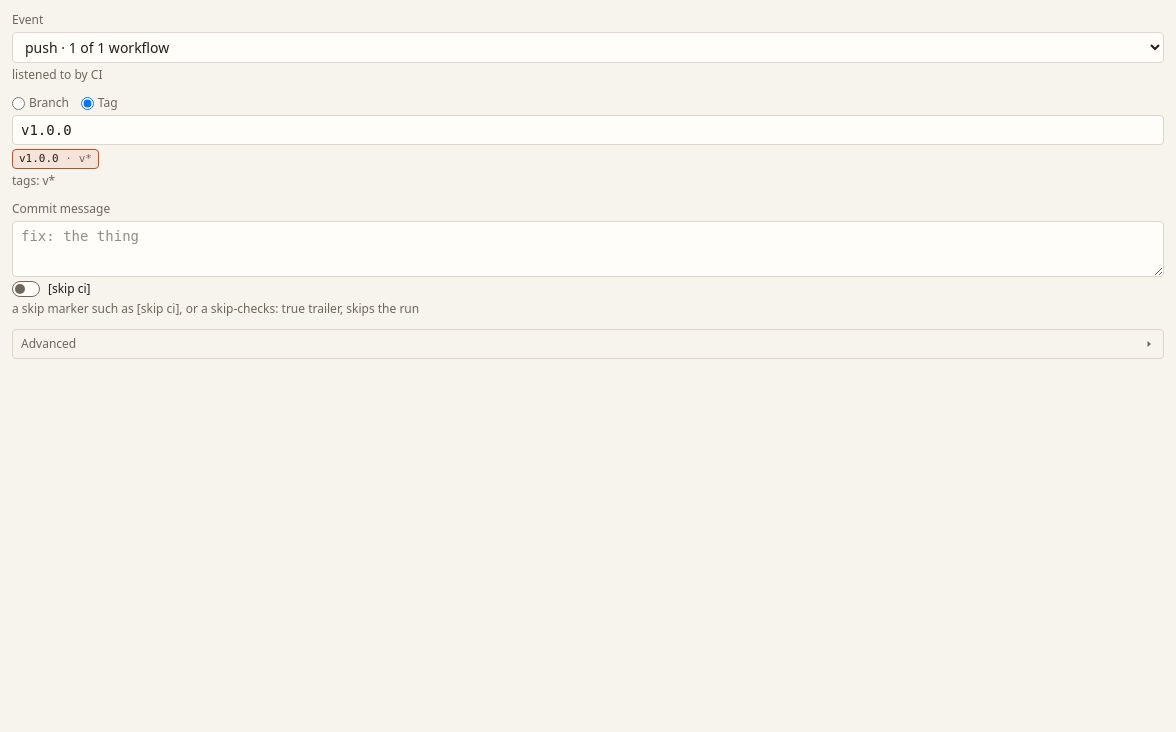
Test: the scenario form › keeps the Tag field a Tag field when it is emptied
The width and height of the screenshot is (1176, 732).
Clear the field named "Tag" at (588, 130), box [12, 115, 1164, 145]
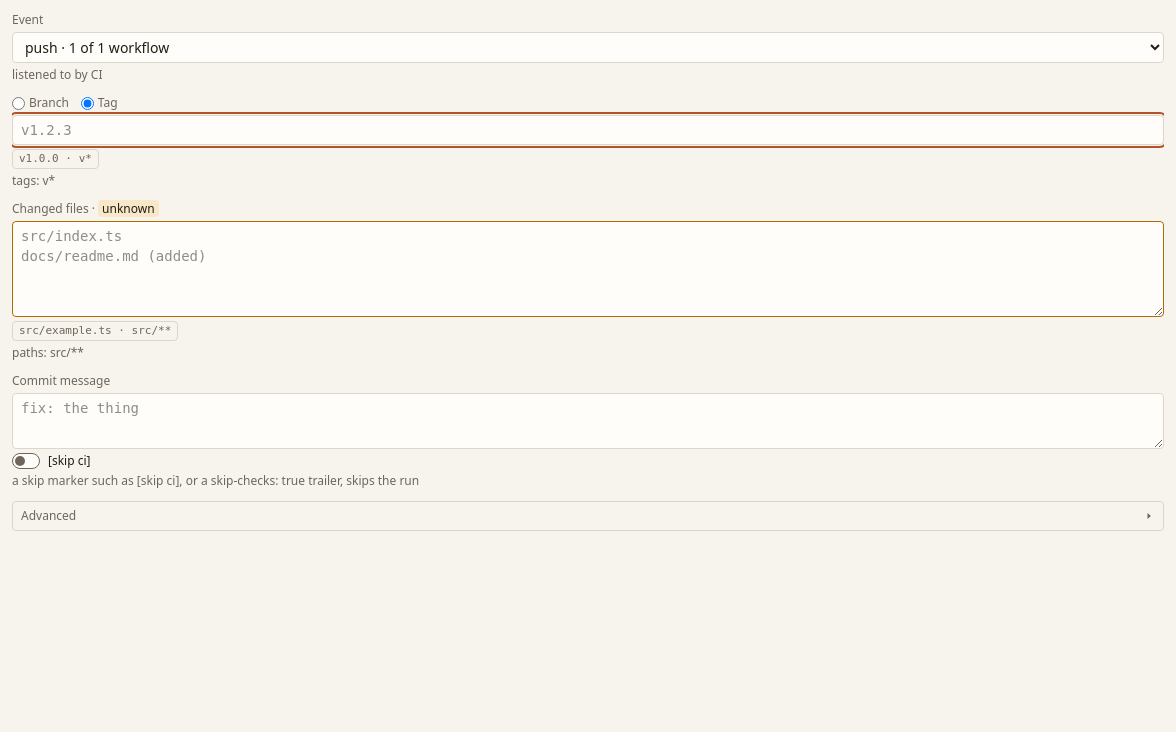
Check: the radio button labelled "Tag" is checked, box [81, 96, 94, 110]
Type "v2.0.0" into the field named "Tag".
click(588, 130); type("v2.0.0")  # box [12, 115, 1164, 145]
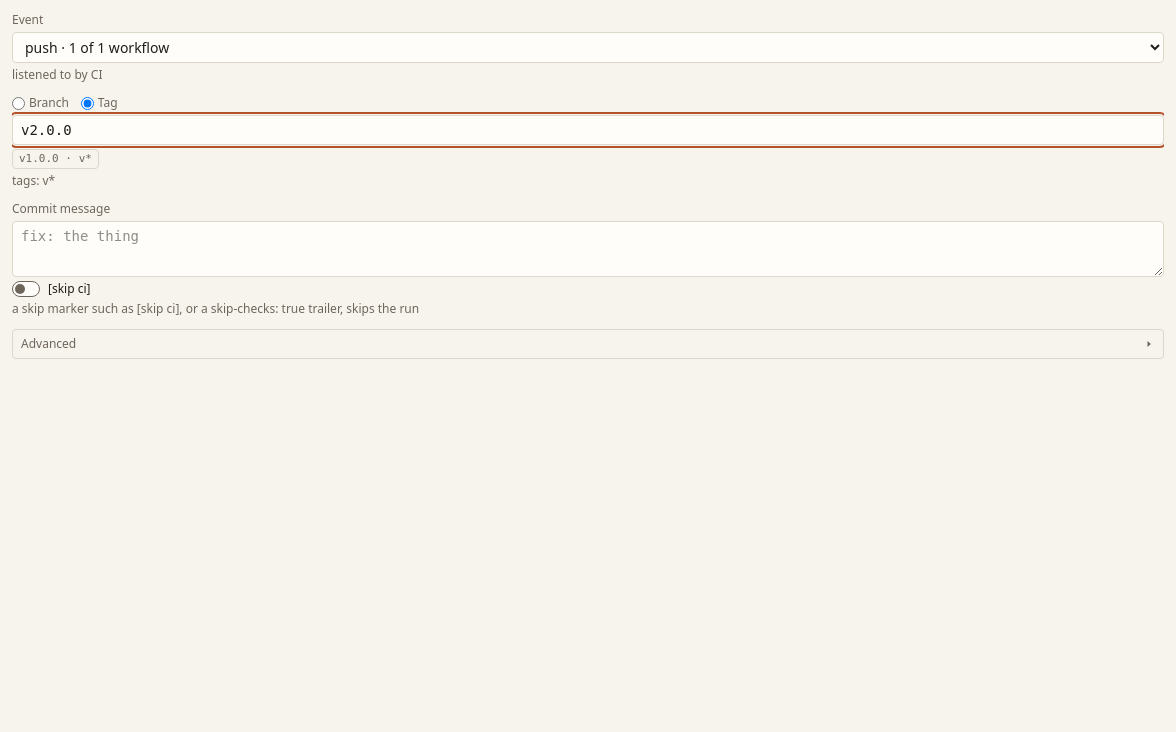
Clear the field named "Tag" at (588, 130), box [12, 115, 1164, 145]
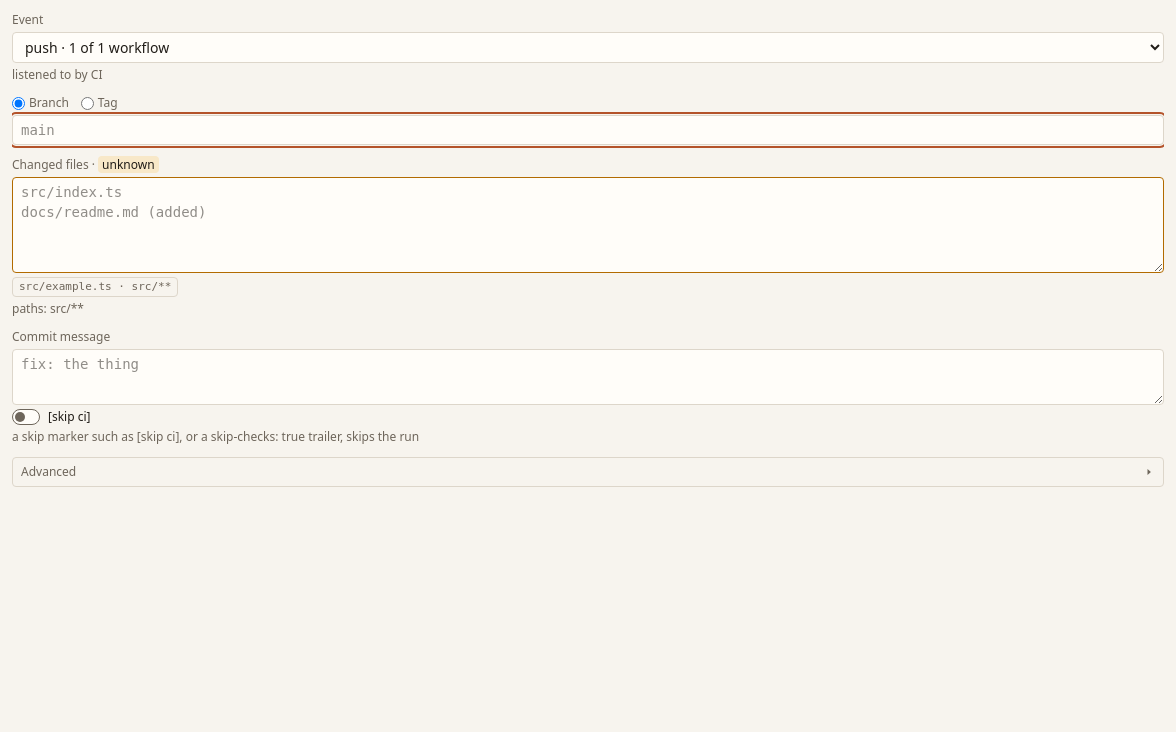
Check: the radio button labelled "Branch" is checked, box [12, 96, 25, 110]
